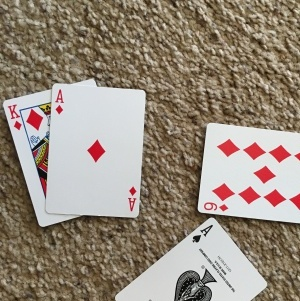card: (48, 83, 143, 218), (4, 92, 52, 221)
